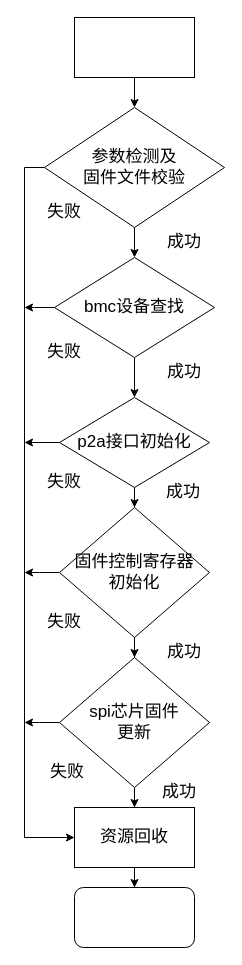
Some shapes in this 242 by 965 pixel diagram are drawn without their labels. The shapes that lost their labels are listed below. From the top down, each one's centre as x and y in pixels, then its label:
At (x=134, y=47): "执行程序".
At (x=134, y=917): "结束退出".
